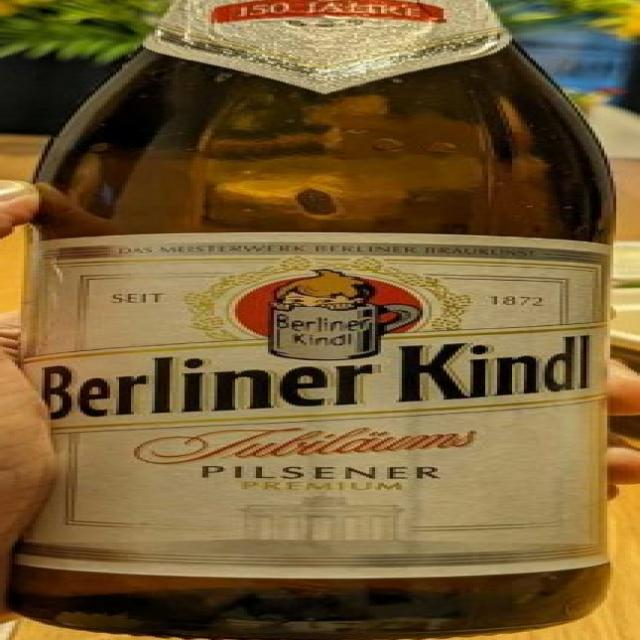Berliner Kindl Jubilaums Pilsener: (3, 1, 640, 640)
